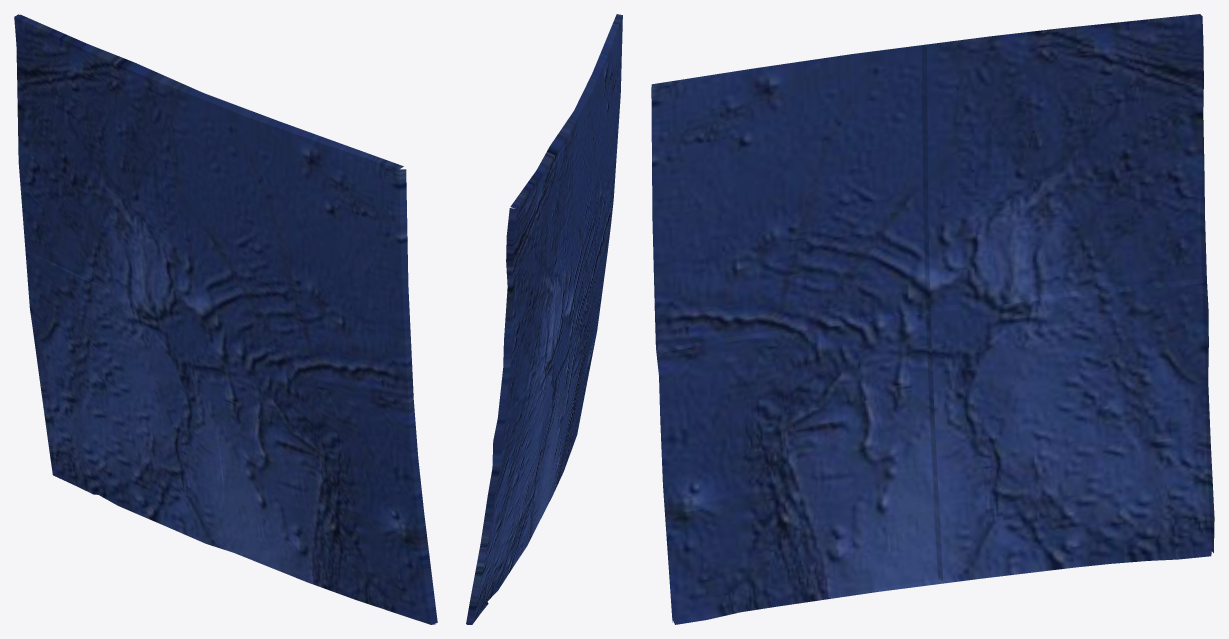
The picture shows the model from 3 angles, left to right: view 1: azimuth 30°, elevation 25°; view 2: azimuth 150°, elevation 25°; view 3: azimuth 270°, elevation 25°; orthographic projection. The views are drawn at different scales.
Bounding box in the file's own units: 496232 × 1251706 × 1233244.
1 material, 1 textured.
